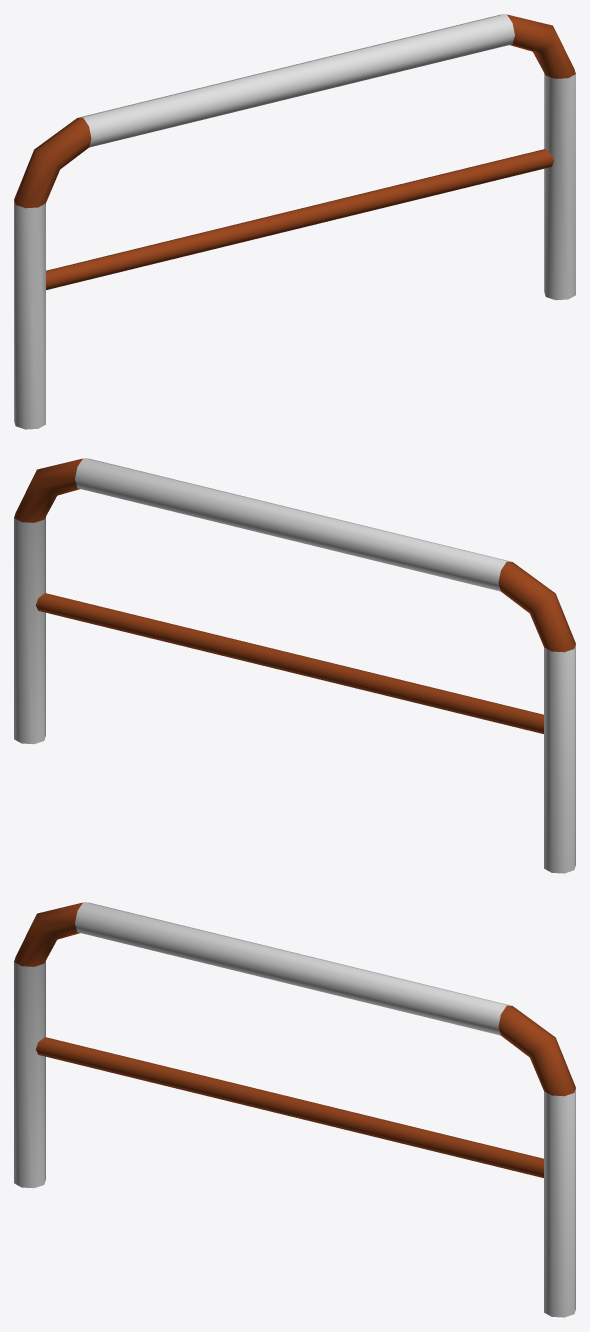
Rendered from CityObjects.fbx_GuardRail.fbx.
The picture shows the model from 3 angles, top to bottom: view 1: azimuth 30°, elevation 25°; view 2: azimuth 150°, elevation 25°; view 3: azimuth 330°, elevation 25°; orthographic projection.
Parts seen in each view (by area): view 1: GuardRail; view 2: GuardRail; view 3: GuardRail.
Boxes of the visible parts, left/top/right/bottom form: GuardRail: left=14, top=14, right=575, bottom=429; GuardRail: left=14, top=458, right=575, bottom=873; GuardRail: left=14, top=902, right=575, bottom=1317.
Bounding box in the file's own units: 211 × 105 × 10.8.
